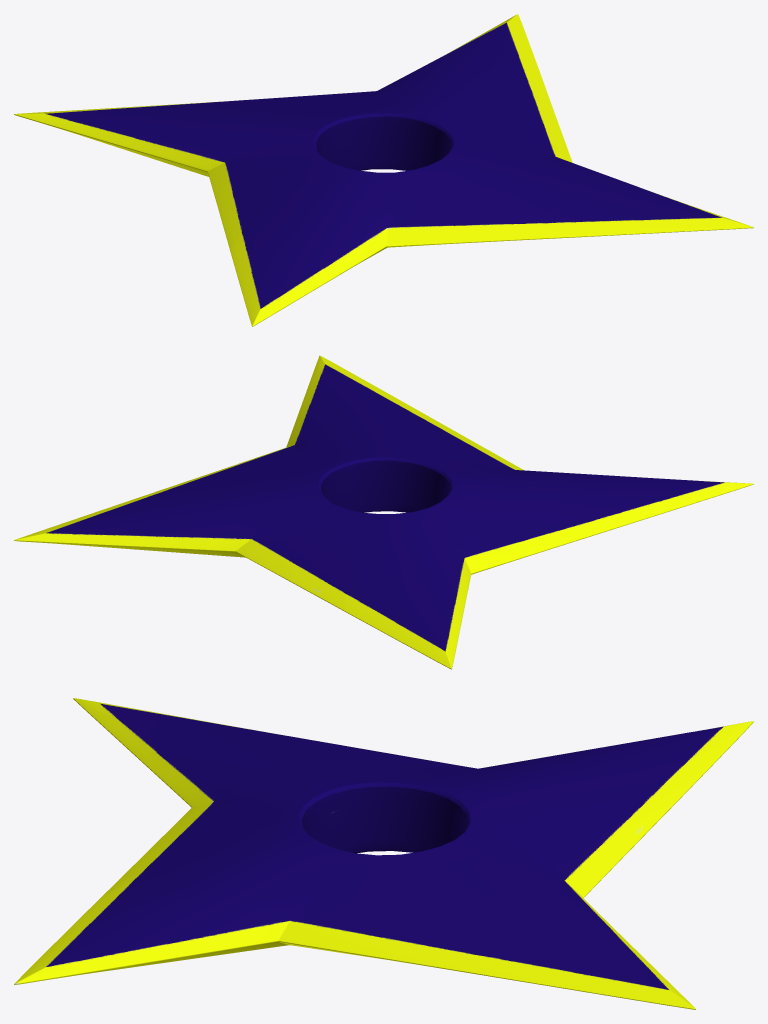
File: weapon_shuriken.fbx
The picture shows the model from 3 angles, top to bottom: view 1: azimuth 30°, elevation 25°; view 2: azimuth 150°, elevation 25°; view 3: azimuth 270°, elevation 25°; orthographic projection. The views are drawn at different scales.
Visible parts, largest first — view 1: syuriken; view 2: syuriken; view 3: syuriken.
Boxes of the visible parts, box(x1,y1,x2,y2) form: syuriken: box(14, 14, 753, 326); syuriken: box(14, 355, 753, 669); syuriken: box(14, 698, 753, 1009).
Bounding box in the file's own units: 15.19 × 1.58 × 15.26.
Materials: 1 (1 with a texture image).
